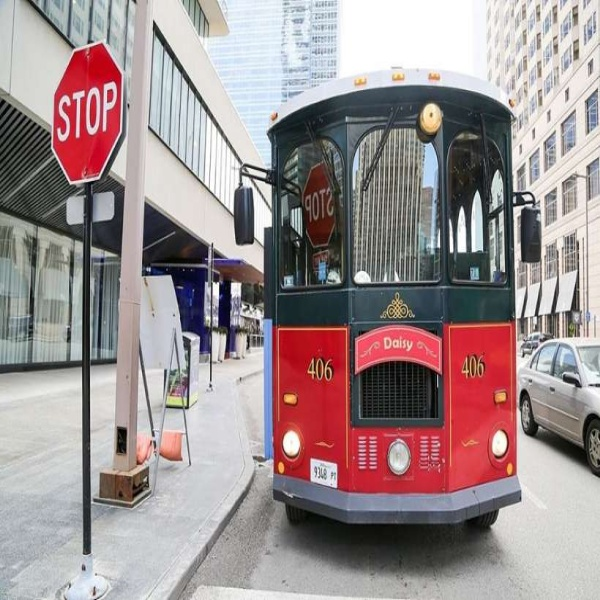stop: (47, 44, 125, 184)
